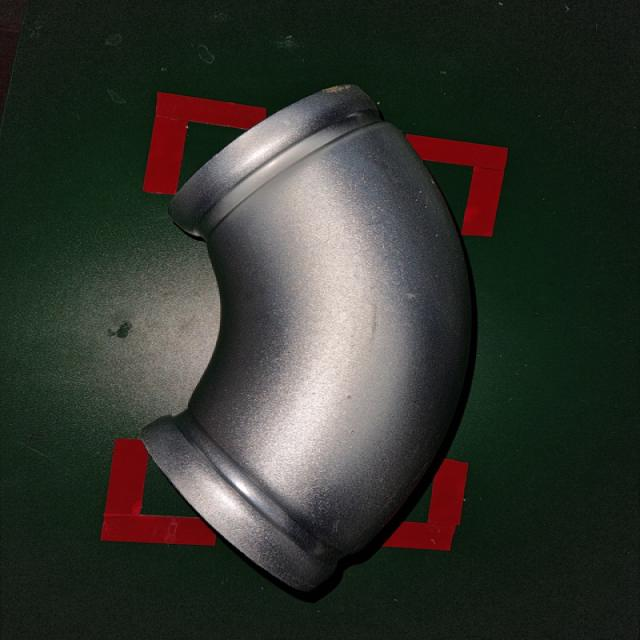Normal: (129, 75, 494, 605)
